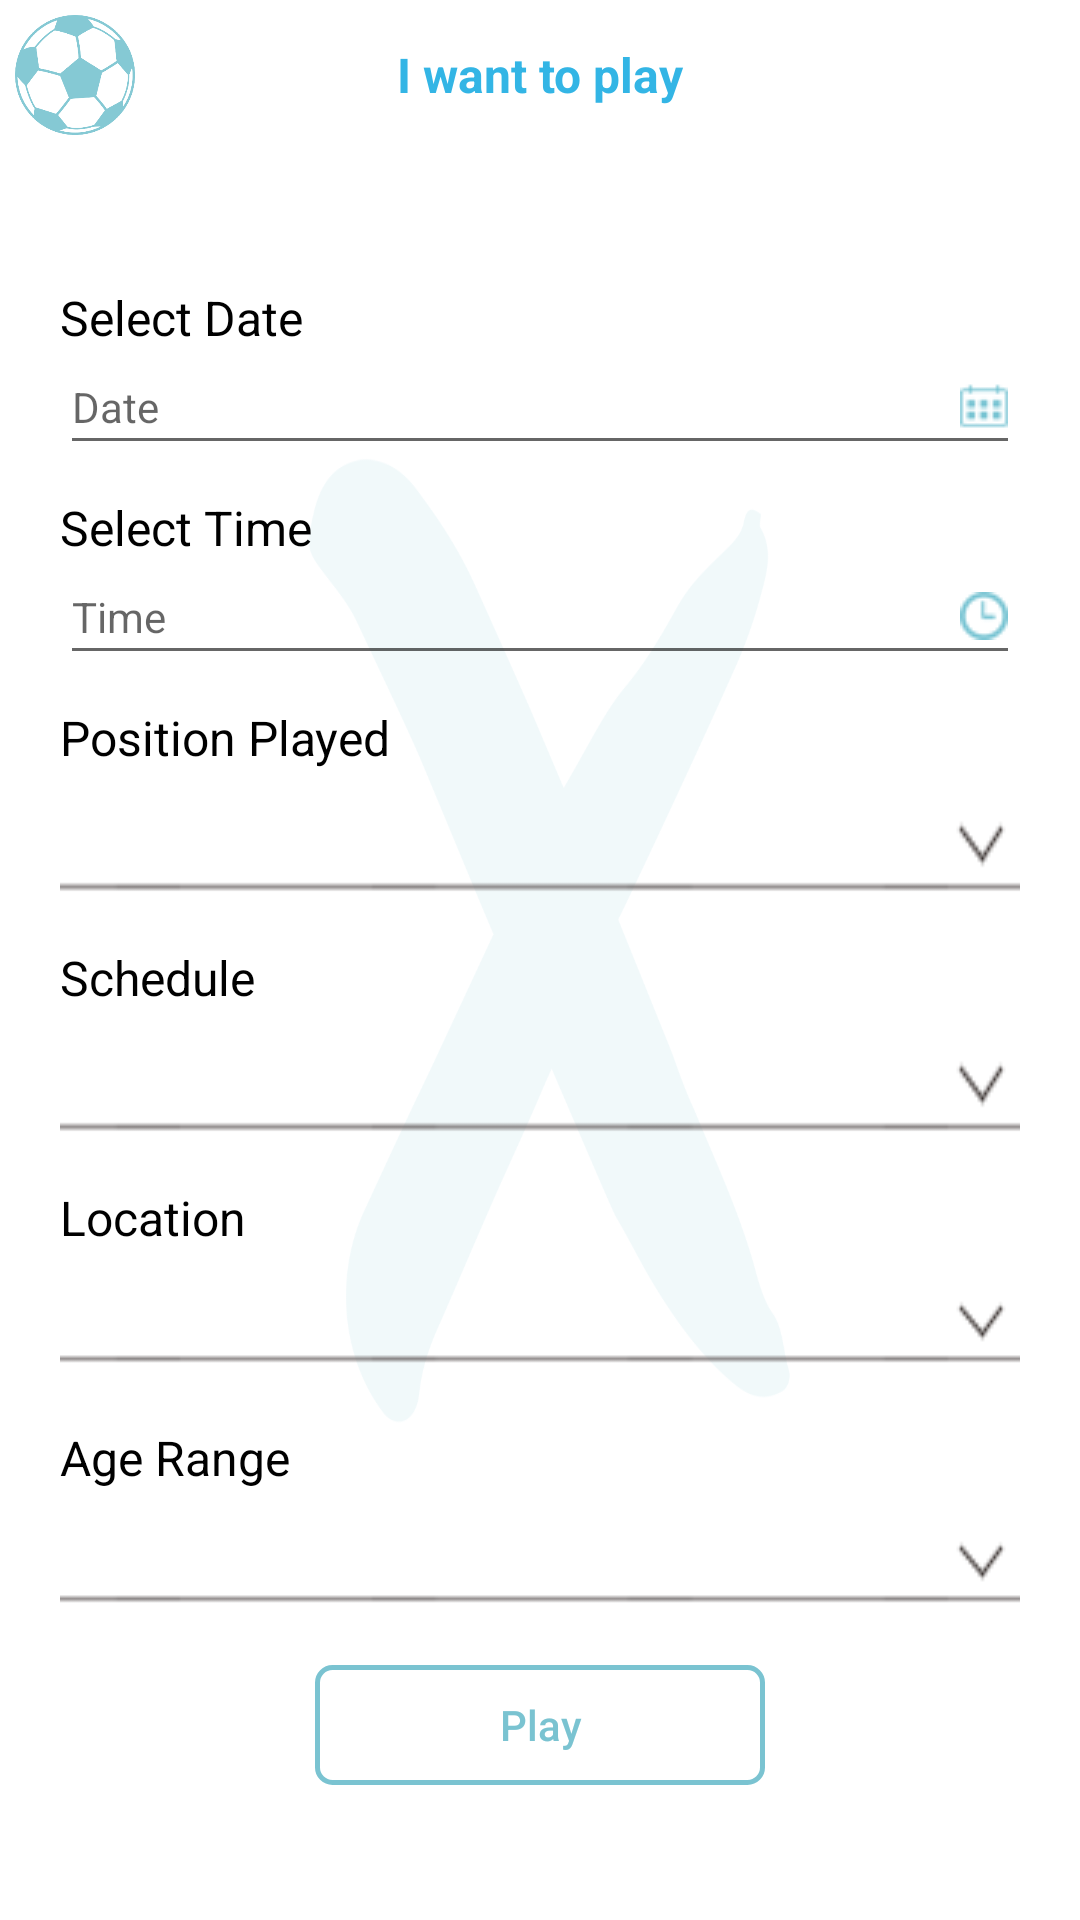

Where to tap for icons on this 1080px x 1920px app screen, as (x,y):
football: (75,75)
